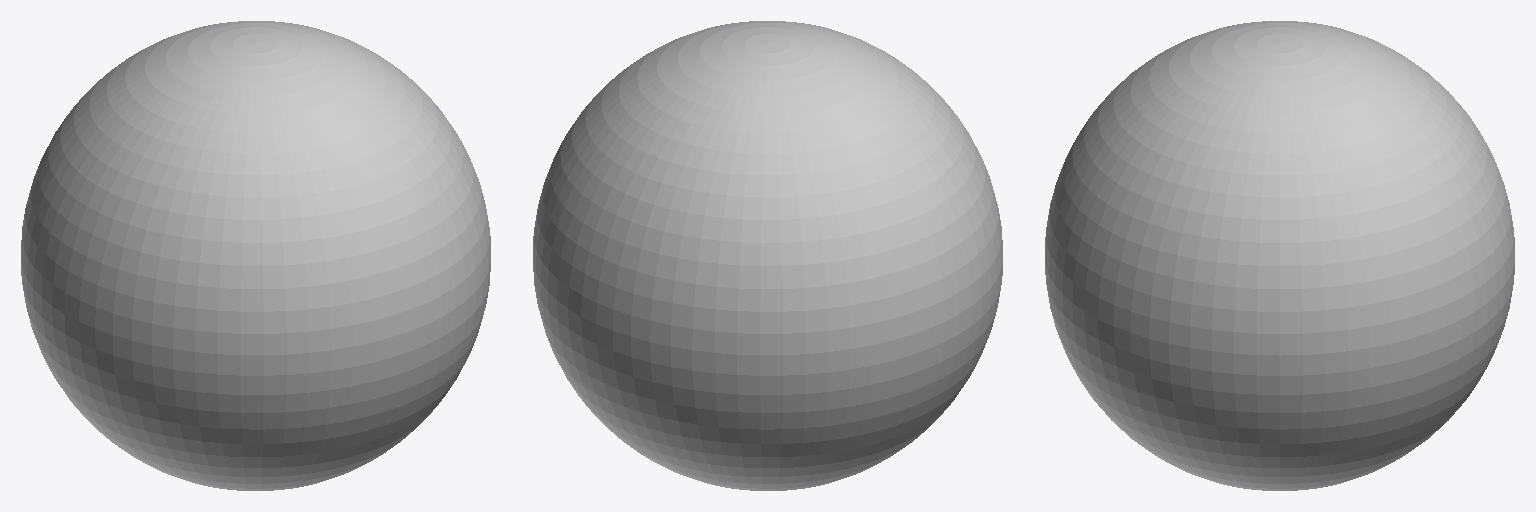
File: earth.obj
The picture shows the model from 3 angles: view 1: azimuth 30°, elevation 25°; view 2: azimuth 150°, elevation 25°; view 3: azimuth 270°, elevation 25°; orthographic projection.
Parts seen in each view (by area): view 1: Sphere001; view 2: Sphere001; view 3: Sphere001.
Boxes of the visible parts, x1,y1,x2,y2 form: Sphere001: [21, 21, 490, 490]; Sphere001: [533, 21, 1002, 490]; Sphere001: [1045, 21, 1514, 490].
Bounding box in the file's own units: 1 × 1 × 1.